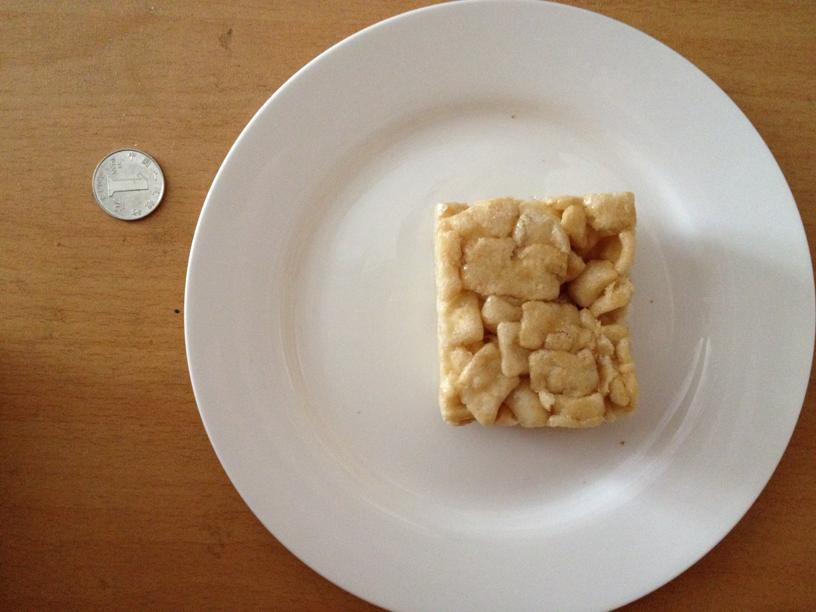coin: (85, 148, 168, 221)
sachima: (428, 193, 640, 427)
